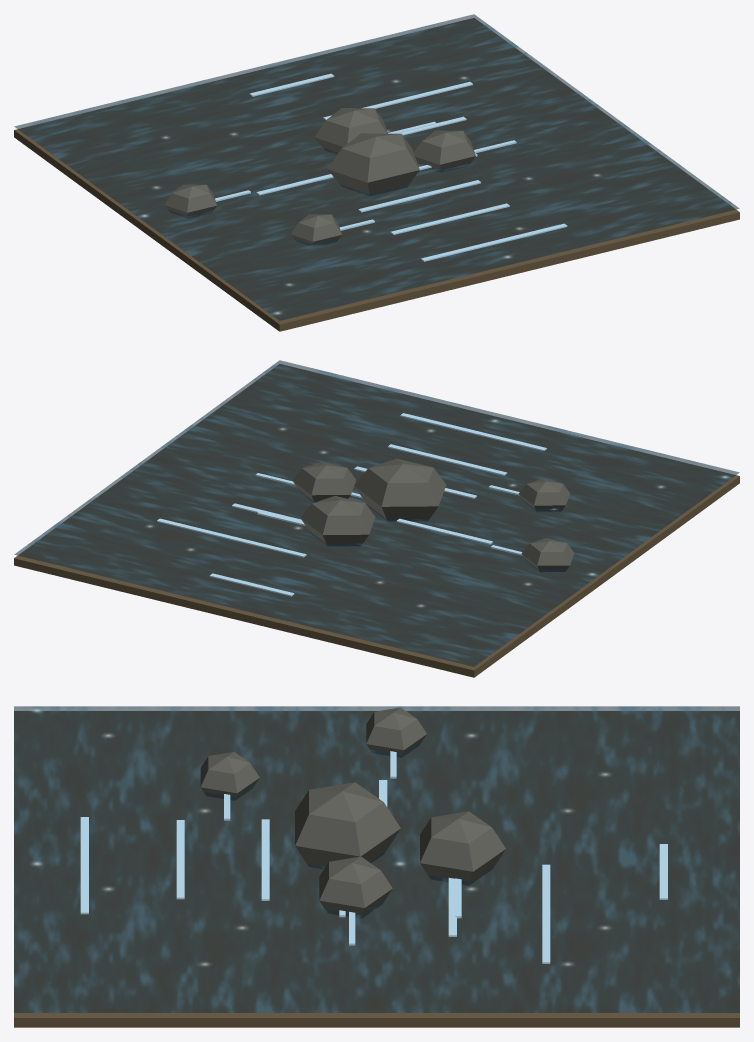
Rendered from br_rapids.glb.
3 renders of one model, top to bottom at view 1: azimuth 30°, elevation 25°; view 2: azimuth 150°, elevation 25°; view 3: azimuth 270°, elevation 25°, orthographic. The views are drawn at different scales.
Visible parts, largest first — view 1: br_rapids; view 2: br_rapids; view 3: br_rapids.
Part boxes in pixels (<box>): br_rapids: <box>14,14,739,331</box>; br_rapids: <box>14,360,739,677</box>; br_rapids: <box>14,706,739,1027</box>.
Size of the model in its own units: 8 by 0.9028 by 8.
4 materials, 1 textured.
